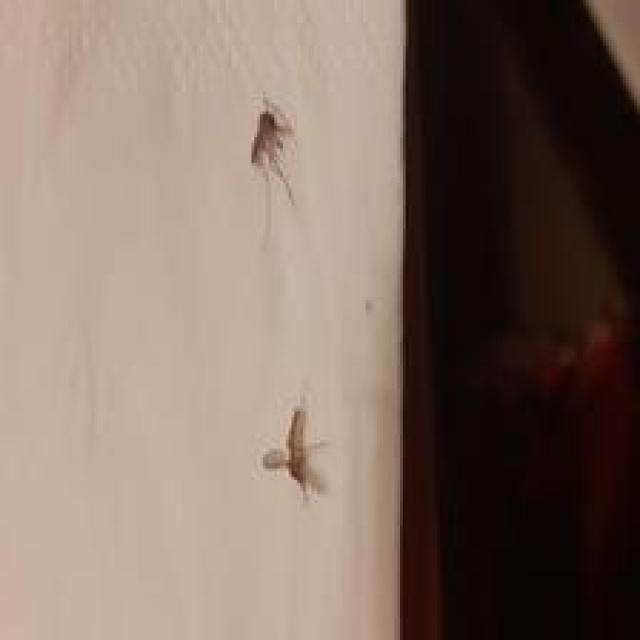Culex: (249, 91, 297, 252)
